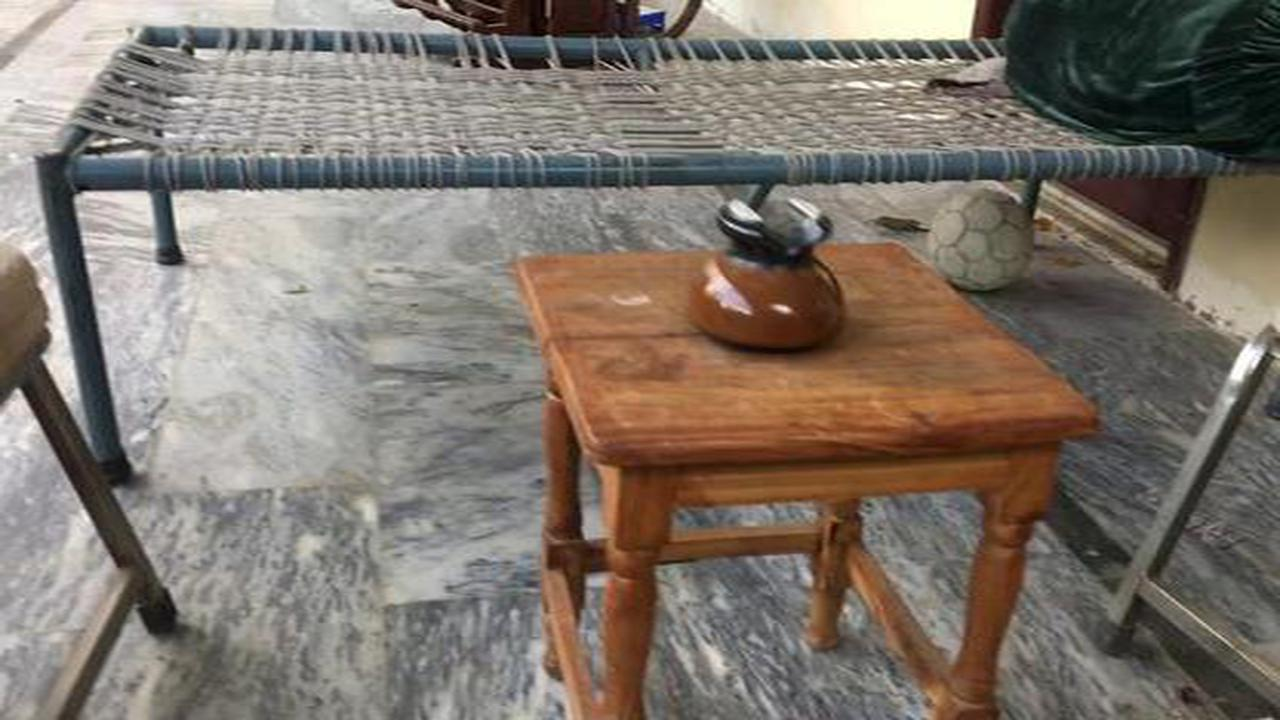insulator_pin: (671, 178, 868, 376)
